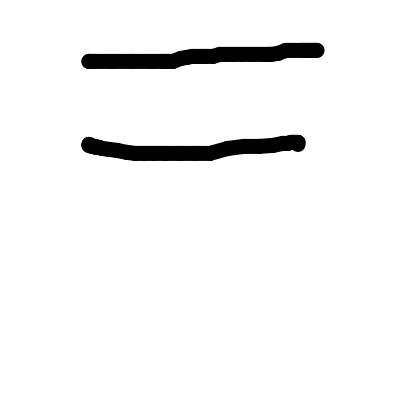eqv: (71, 36, 328, 169)
